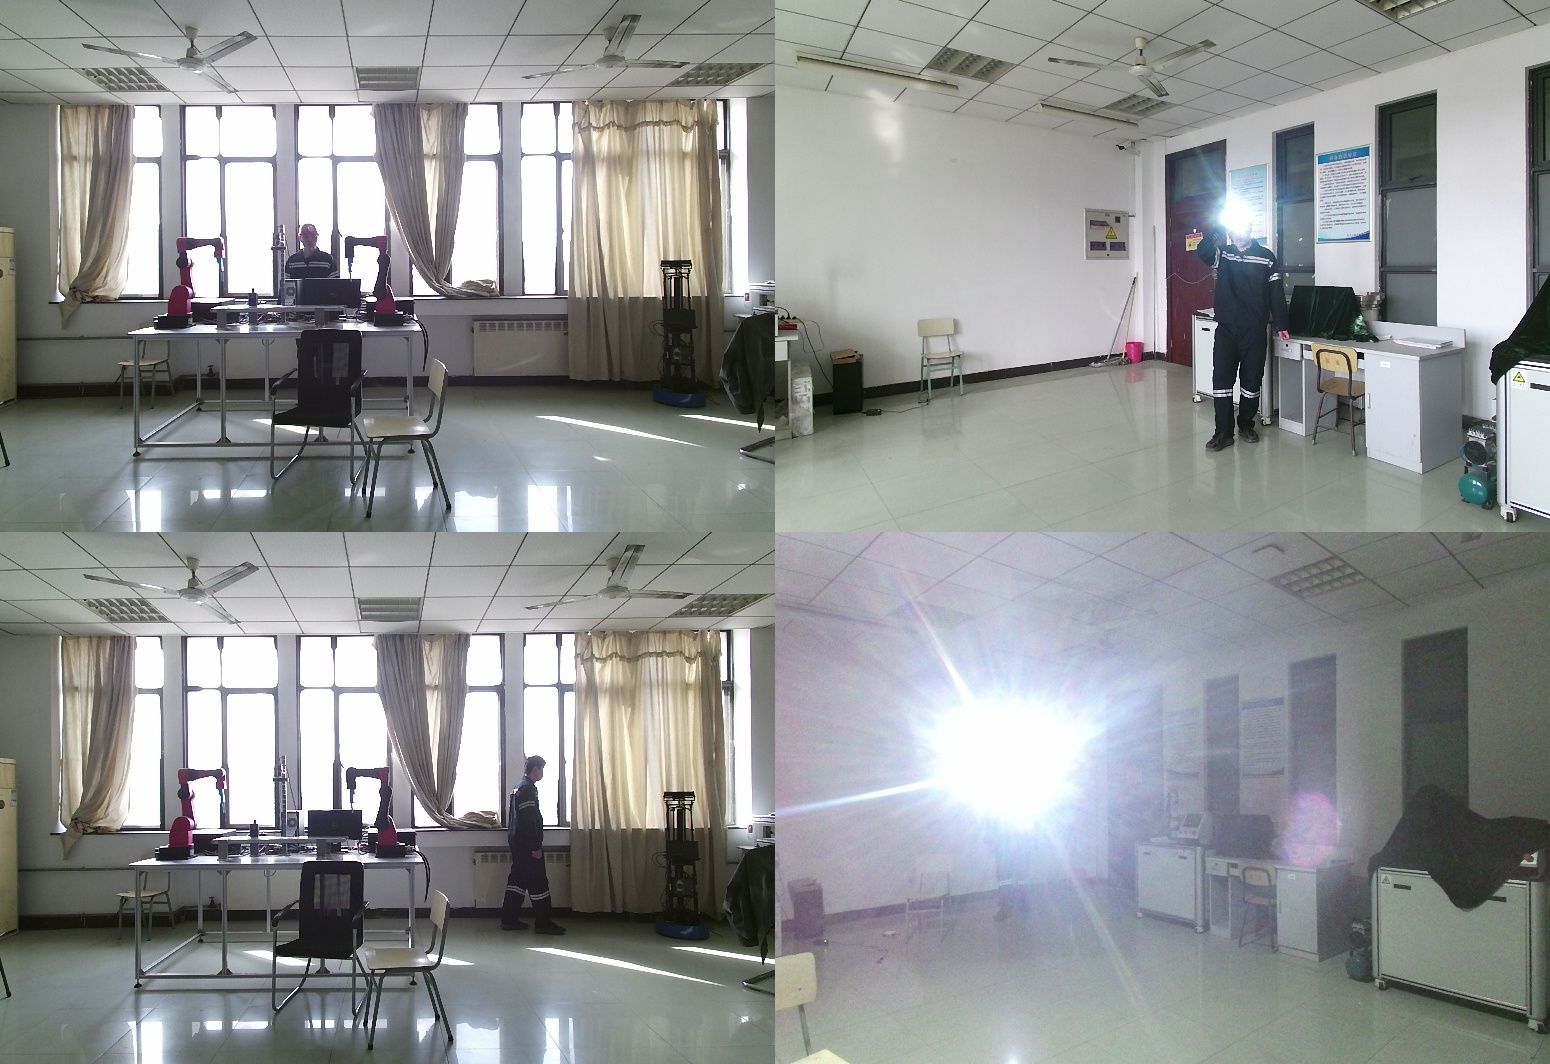person: (1197, 205, 1297, 451), (503, 757, 570, 943), (984, 759, 1041, 924), (283, 222, 342, 281)
